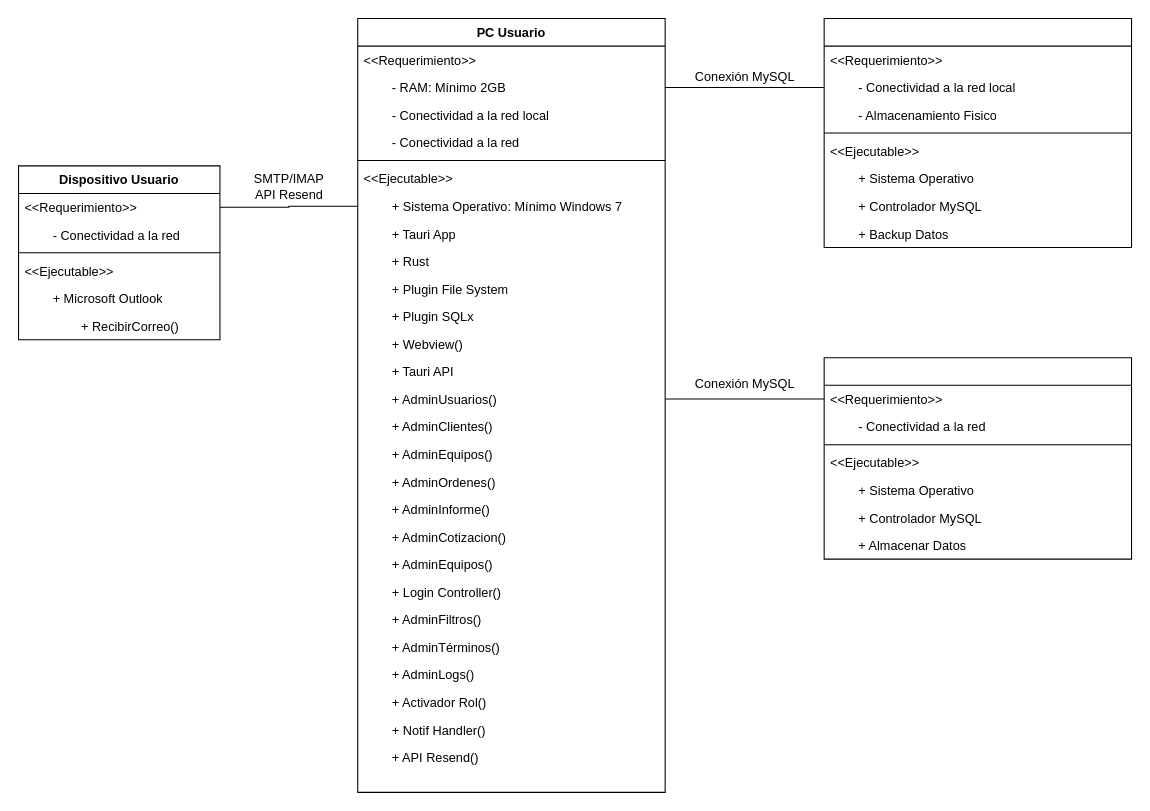
Some shapes in this 1150 by 811 pixel diagram are drawn without their labels. Here are the shapes that lost their labels. From the top down, the box of each, then its label:
(823, 17, 1132, 248): Servidor Base de Datos Local
(823, 357, 1132, 559): Servidor Base de Datos Nube
